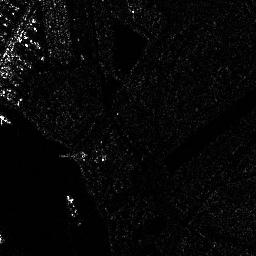ship: (66, 194, 81, 226)
